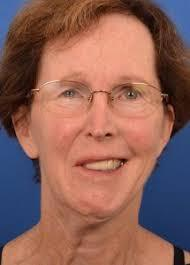strokeEyeWeak: (50, 72, 149, 113)
strokeMouthWeak: (69, 150, 136, 182)
